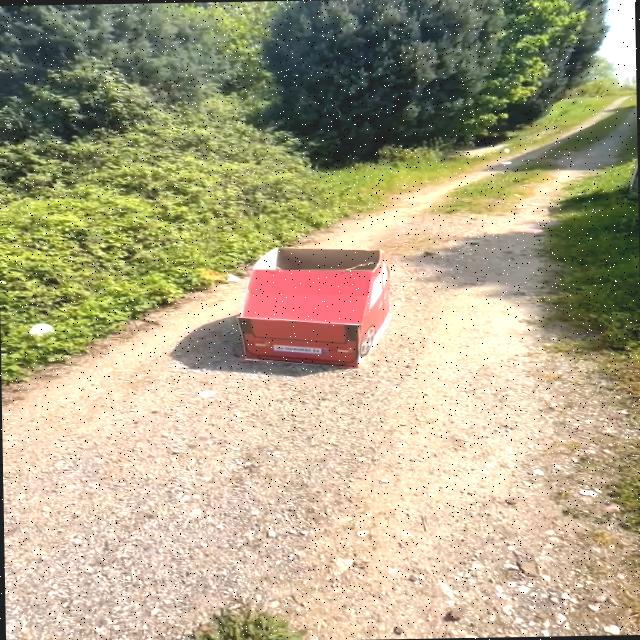red_car: (195, 228, 431, 381)
